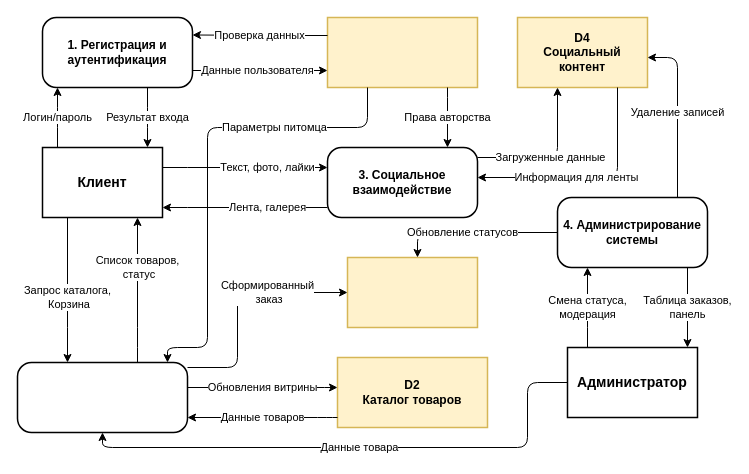
Image size: 749x474. Some labels were removed from this diagram. Each missing label, with the centre of its shape:
"2. Торгово-логистическое обслуживание" belongs at (102,397).
"D1 Пользователи и Питомцы" belongs at (402,52).
"D3 Транзакции" belongs at (412,292).
